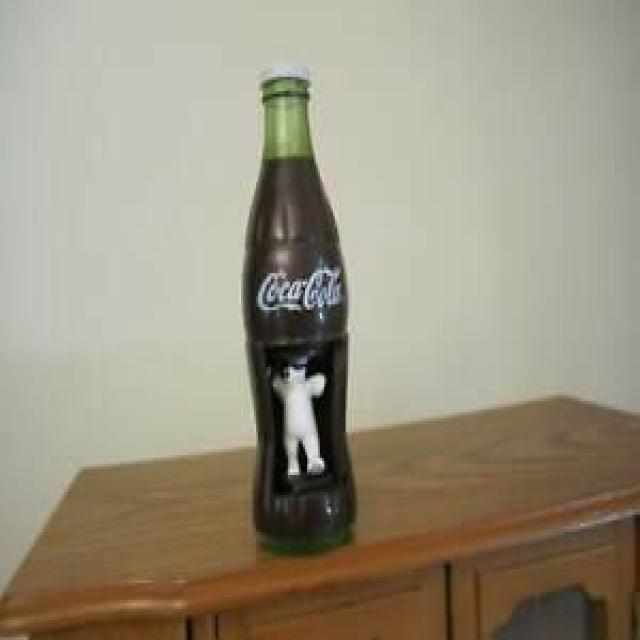coca-cola: (237, 60, 365, 560)
